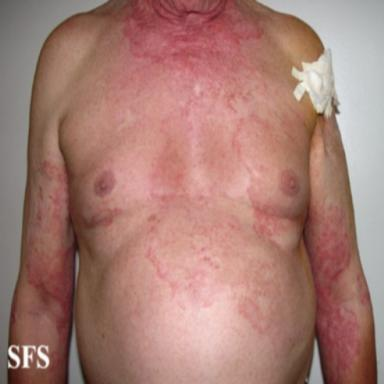Tinea-Corporis: (70, 0, 312, 358), (21, 160, 74, 381), (305, 195, 361, 382), (355, 274, 370, 306)
